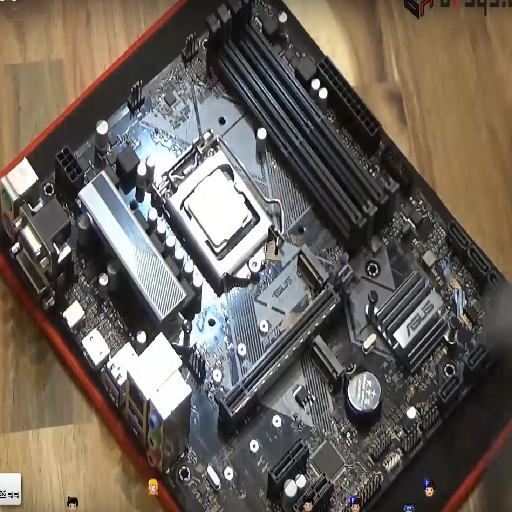CPU: (155, 132, 269, 279)
GPU: (218, 263, 357, 426)
MOTHERBOARD: (14, 3, 504, 512)
RAM: (205, 10, 399, 256)
SSD: (311, 335, 344, 394), (298, 247, 327, 291)
